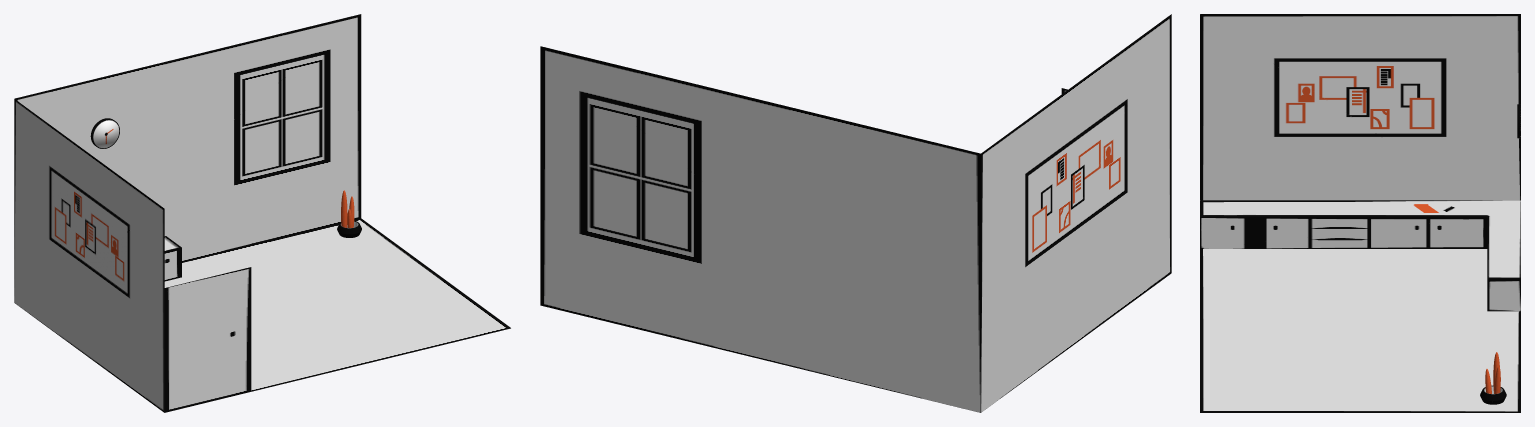
Rendered from office1.fbx.
3 views of the same model, side by side, from view 1: azimuth 30°, elevation 25°; view 2: azimuth 150°, elevation 25°; view 3: azimuth 270°, elevation 25° (orthographic). The views are drawn at different scales.
Visible parts, largest first — view 1: Cube.000; view 2: Cube.000; view 3: Cube.000.
Part boxes in pixels (left/top/right/bottom): Cube.000: left=14, top=14, right=510, bottom=412; Cube.000: left=540, top=14, right=1171, bottom=412; Cube.000: left=1200, top=14, right=1520, bottom=412.
Size of the model in its own units: 3200 by 1800 by 2400.
